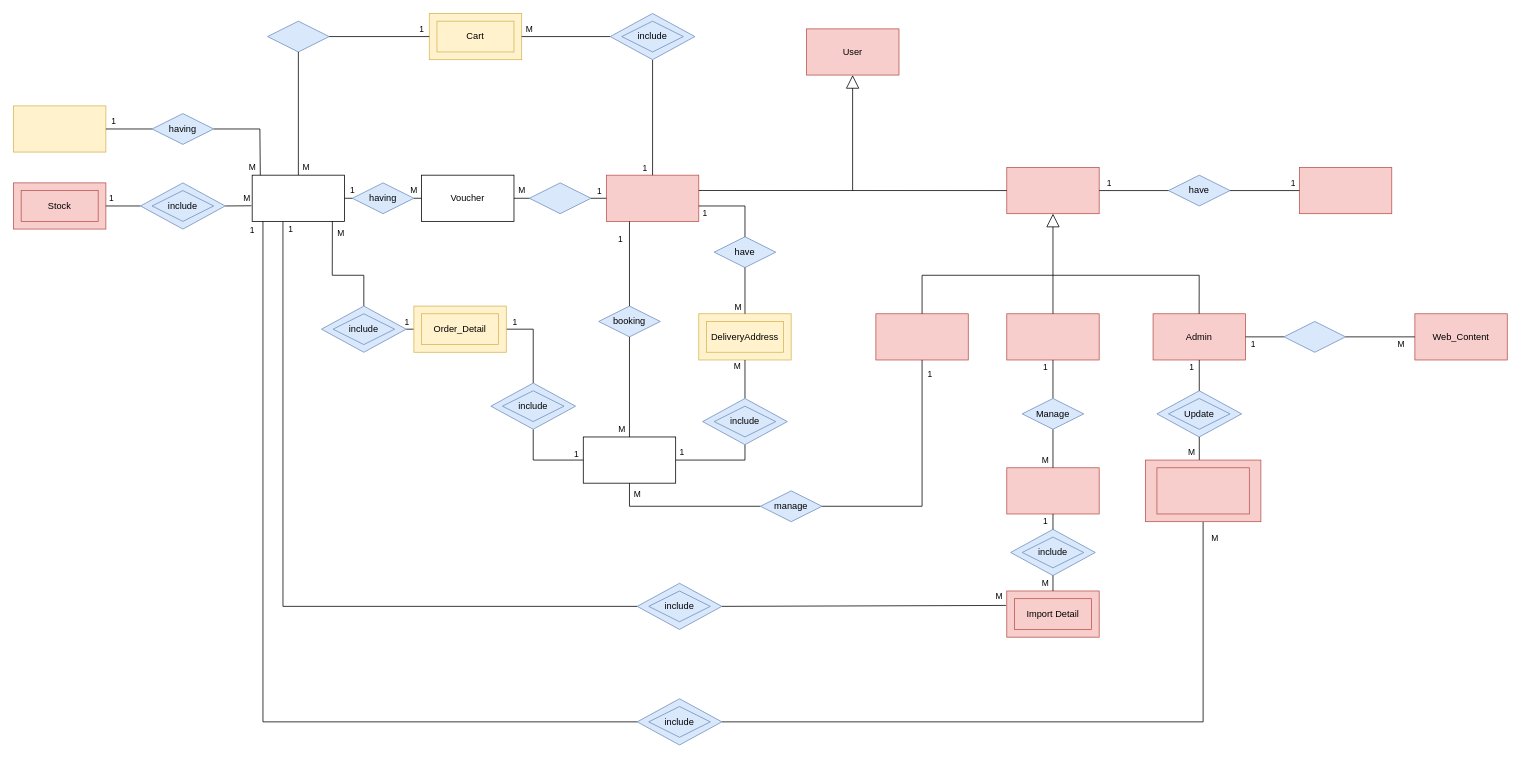
Image size: 1521x758. Some labels were removed from this diagram. Here are the shapes that lost their labels. From the top down, the centre of each, then its label:
At (x=298, y=36): "including".
At (x=59, y=128): "Brand".
At (x=298, y=197): "Product".
At (x=560, y=198): "used".
At (x=652, y=197): "Customer".
At (x=1052, y=190): "Employee".
At (x=1345, y=190): "Employee_Role".
At (x=921, y=336): "Order_Manager".
At (x=1052, y=336): "Warehouse_Manager".
At (x=1314, y=336): "edit".
At (x=629, y=459): "Order".
At (x=1052, y=490): "Import".
At (x=1202, y=490): "Product_Activity_Log".
